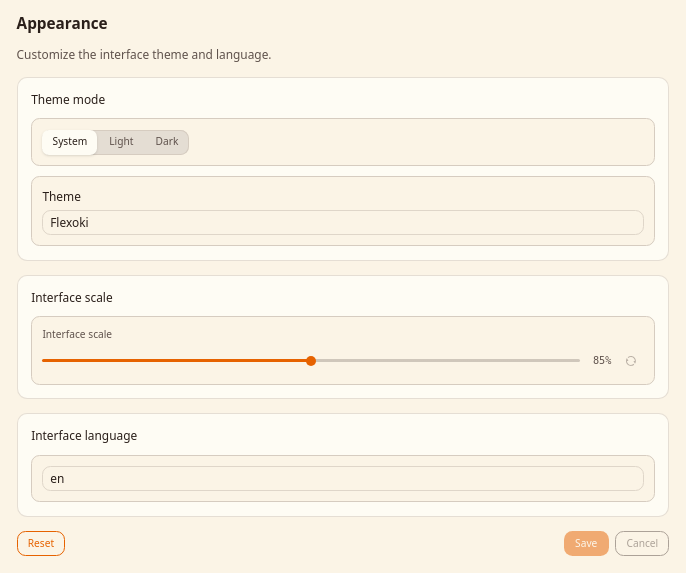
it: AppearanceSettings — миграция на Settings UI Kit (ADR-072) › Reset активен при отличии от дефолта и серый/неактивен после сброса
What coordinates should you click on to do the following:
click the button with test id "appearance-reset"
I would click on:
 (41, 544)
Its box is x1=17 y1=531 x2=65 y2=556.
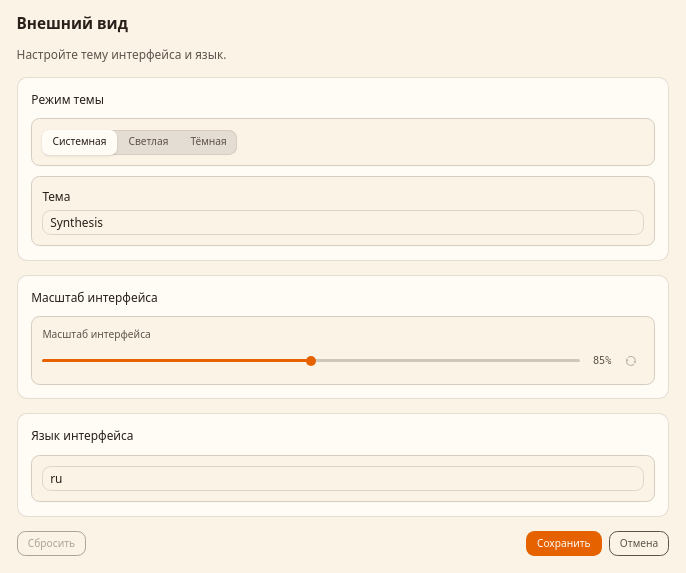
expect the button with test id "appearance-reset" is disabled: met, box x1=17 y1=531 x2=86 y2=556
